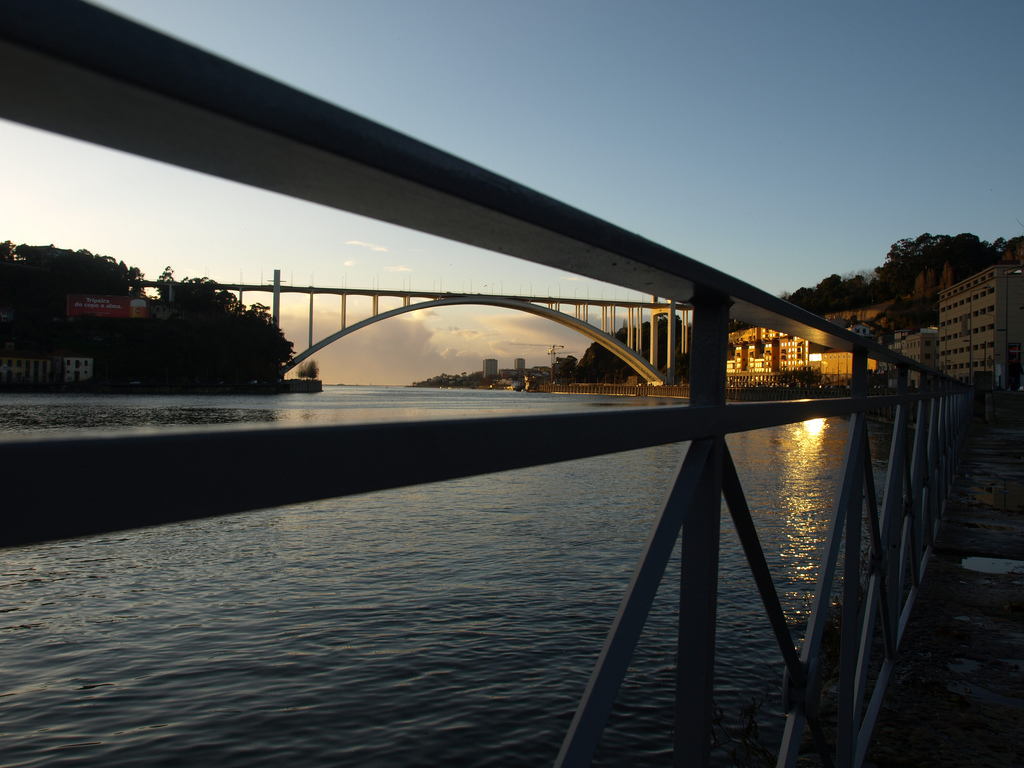arrabida: (131, 267, 698, 390)
